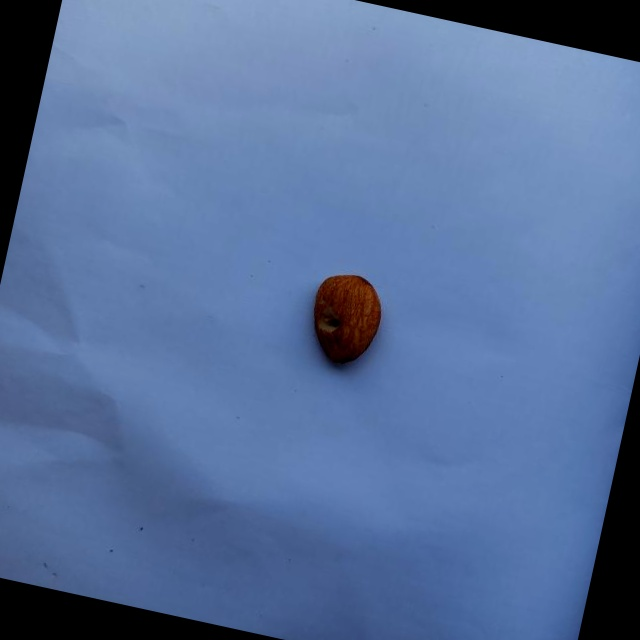grade3: (297, 263, 391, 375)
